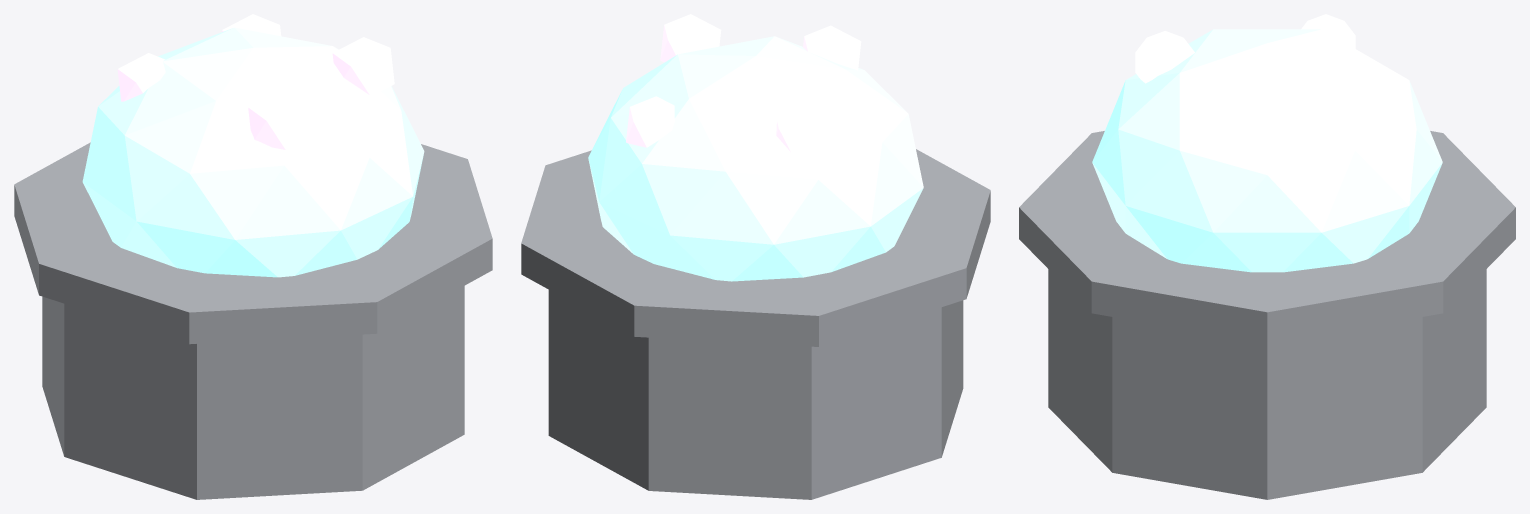
The model's file is starlight_planter.glb.
The picture shows the model from 3 angles, left to right: view 1: azimuth 30°, elevation 25°; view 2: azimuth 150°, elevation 25°; view 3: azimuth 270°, elevation 25°; orthographic projection. The views are drawn at different scales.
Visible parts, largest first — view 1: Cylinder, Icosphere, Cylinder.001, Icosphere.003, Icosphere.002, Icosphere.001, Icosphere.004; view 2: Cylinder, Icosphere, Cylinder.001, Icosphere.001, Icosphere.002, Icosphere.004, Icosphere.003; view 3: Cylinder, Icosphere, Cylinder.001, Icosphere.002, Icosphere.004, Icosphere.003, Icosphere.001.
Boxes of the visible parts, x1,y1,x2,y2 form: Cylinder: (42, 286, 464, 499); Icosphere: (82, 27, 424, 277); Cylinder.001: (14, 142, 492, 344); Icosphere.003: (248, 91, 309, 150); Icosphere.002: (332, 37, 394, 95); Icosphere.001: (117, 53, 165, 101); Icosphere.004: (222, 14, 281, 36); Cylinder: (548, 290, 963, 499); Icosphere: (588, 36, 923, 281); Cylinder.001: (521, 149, 990, 346); Icosphere.001: (776, 103, 831, 155); Icosphere.002: (660, 14, 721, 62); Icosphere.004: (626, 96, 674, 147); Icosphere.003: (803, 25, 861, 70); Cylinder: (1048, 269, 1486, 499); Icosphere: (1092, 29, 1442, 272); Cylinder.001: (1019, 131, 1515, 343); Icosphere.002: (1193, 81, 1253, 140); Icosphere.004: (1345, 83, 1399, 140); Icosphere.003: (1135, 31, 1194, 83); Icosphere.001: (1301, 14, 1355, 48).
Size of the model in its own units: 1.7 by 1.39 by 1.7.
